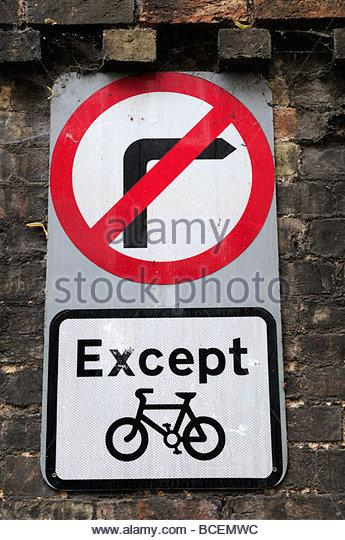no_right_turn: (47, 70, 275, 282)
